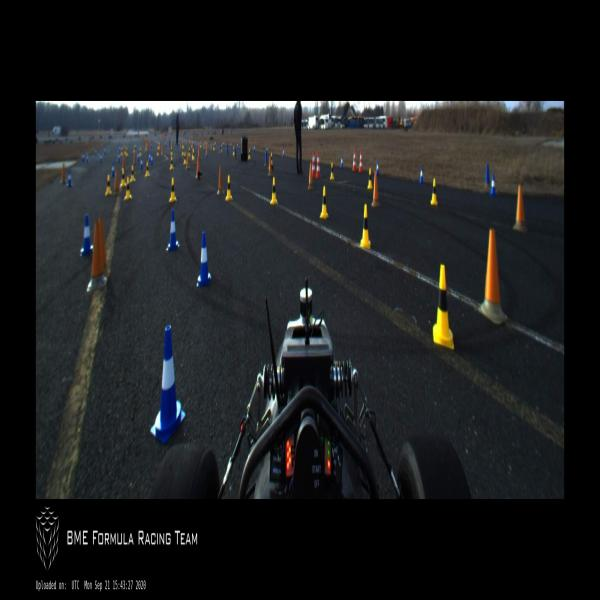blue_cone: (150, 323, 186, 444), (196, 231, 212, 288), (80, 214, 95, 255), (166, 209, 180, 250), (490, 174, 496, 197), (419, 165, 425, 187), (67, 170, 72, 188), (133, 149, 137, 165), (376, 160, 380, 175), (205, 141, 209, 155), (140, 156, 144, 170), (86, 150, 90, 163), (117, 150, 121, 162), (340, 156, 344, 167), (150, 153, 154, 164), (81, 152, 85, 162), (99, 153, 103, 163), (282, 147, 285, 158), (94, 148, 98, 156), (112, 160, 114, 175), (253, 144, 256, 154), (148, 151, 150, 162), (137, 152, 139, 162), (104, 146, 106, 155), (150, 142, 152, 148)
large_orange_cone: (316, 152, 321, 178), (311, 152, 316, 178), (359, 150, 363, 172), (352, 150, 356, 170)
unknown_cone: (478, 228, 508, 327), (86, 218, 109, 292), (513, 183, 527, 232), (99, 217, 110, 275), (372, 172, 380, 207), (217, 165, 224, 194), (195, 156, 202, 180), (308, 164, 314, 190), (484, 162, 490, 187), (114, 167, 119, 194), (60, 164, 66, 183), (196, 147, 202, 162), (268, 156, 272, 174), (122, 155, 126, 170), (264, 150, 268, 164), (226, 143, 229, 157), (212, 142, 216, 152), (218, 142, 221, 155), (146, 139, 149, 152), (234, 146, 237, 158), (162, 144, 164, 154)
yellow_cone: (433, 265, 454, 350), (360, 203, 371, 249), (320, 186, 329, 218), (430, 176, 438, 208), (270, 176, 278, 204), (169, 178, 177, 204), (124, 177, 132, 202), (225, 175, 232, 200), (106, 172, 112, 198), (120, 167, 127, 189), (367, 167, 373, 189), (145, 161, 150, 179), (330, 162, 335, 180), (183, 151, 188, 166), (170, 154, 174, 172), (131, 165, 135, 183), (192, 148, 195, 162), (187, 147, 191, 157), (248, 146, 251, 159), (170, 146, 173, 156), (271, 153, 273, 167), (120, 147, 123, 156), (182, 144, 184, 155), (233, 145, 235, 156), (157, 147, 159, 157), (124, 145, 126, 155), (126, 146, 128, 155), (140, 148, 142, 156), (220, 144, 222, 152), (200, 140, 201, 148)
